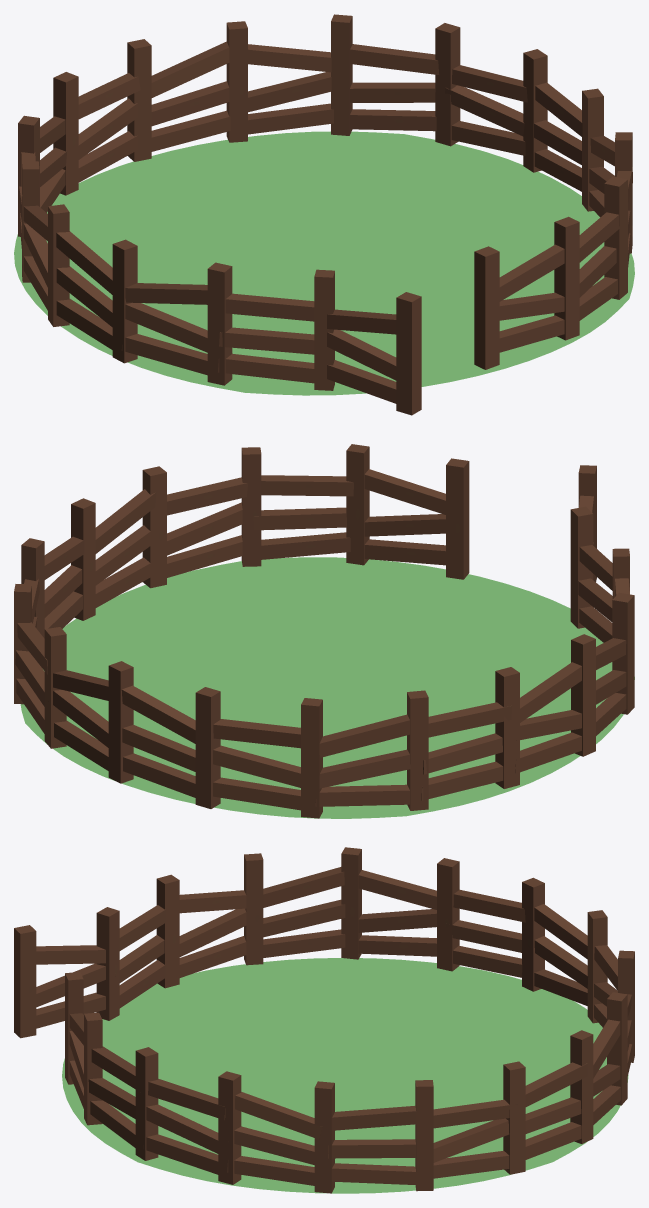
Rendered from Playpen.fbx.
3 renders of one model, top to bottom at view 1: azimuth 30°, elevation 25°; view 2: azimuth 150°, elevation 25°; view 3: azimuth 270°, elevation 25°, orthographic. The views are drawn at different scales.
Visible parts, largest first — view 1: Pen; view 2: Pen; view 3: Pen.
Part boxes in pixels (bbox=[...]): Pen: bbox=[14, 14, 634, 415]; Pen: bbox=[14, 444, 634, 818]; Pen: bbox=[14, 847, 634, 1193].
Size of the model in its own units: 240 by 49.34 by 260.
1 material, 1 textured.
